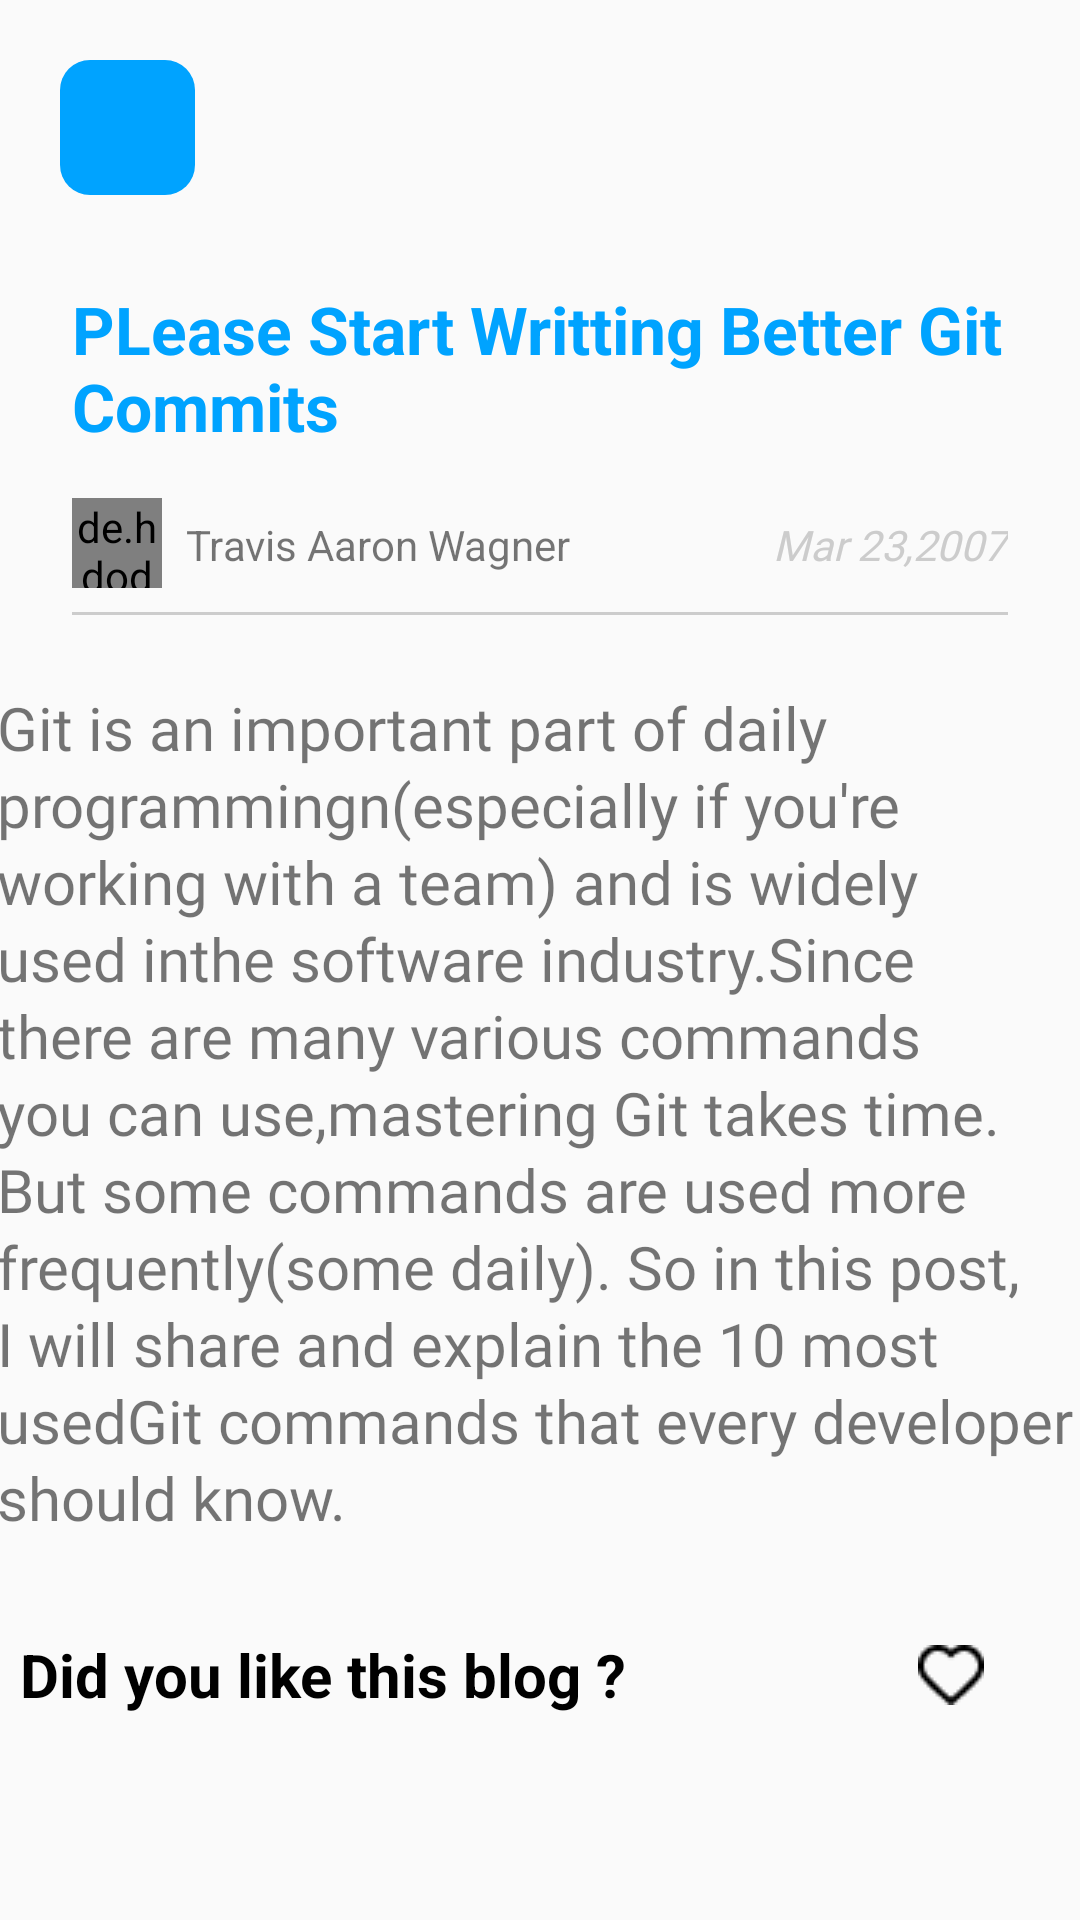

Icons on this 1080 × 1920 Android screen, each with the point to tap as (x,y):
non like: (951,1675)
